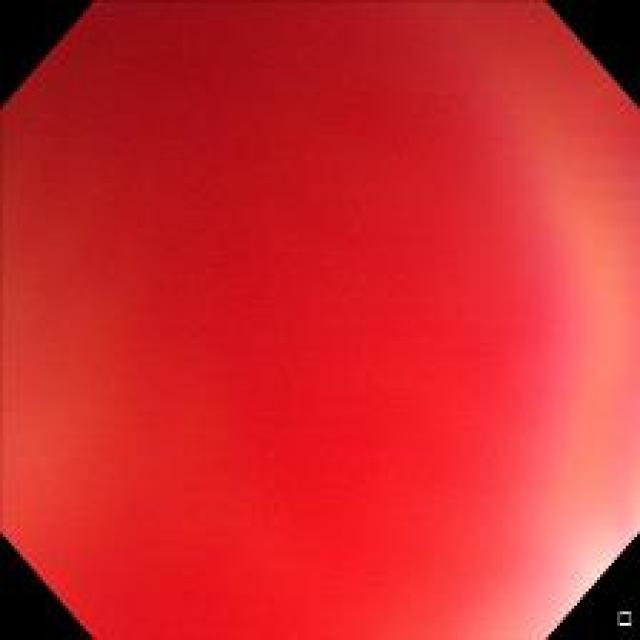color misalignment: (8, 9, 630, 634)
